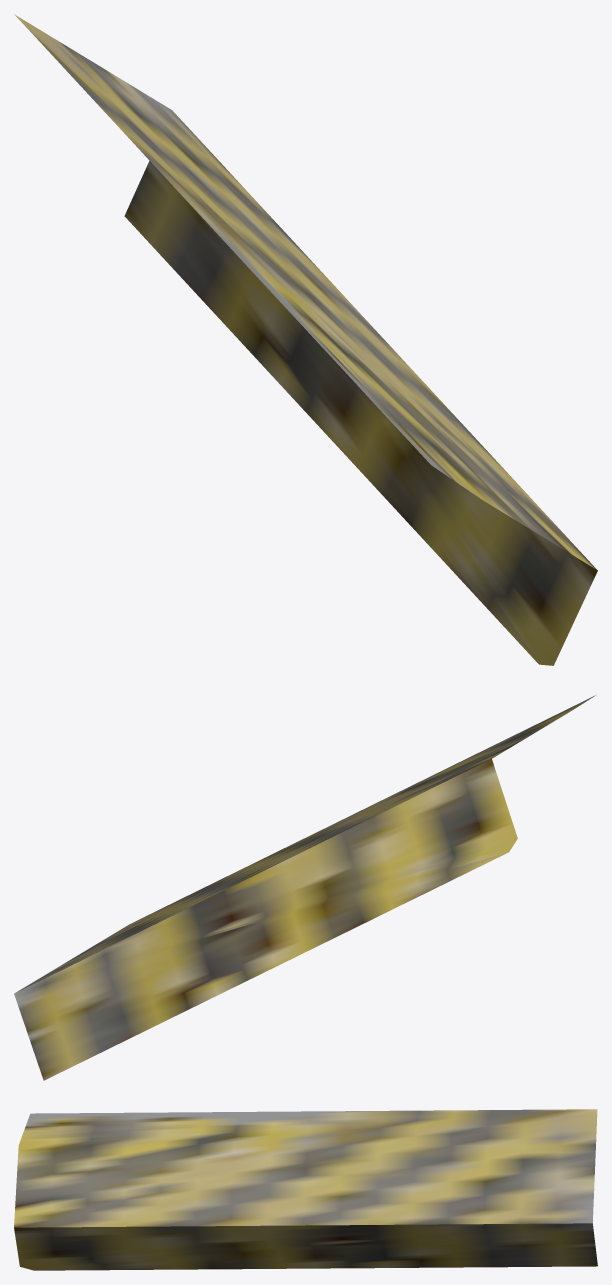
File: guard-right.glb
3 renders of one model, top to bottom at view 1: azimuth 30°, elevation 25°; view 2: azimuth 150°, elevation 25°; view 3: azimuth 270°, elevation 25°, orthographic. The views are drawn at different scales.
Visible parts, largest first — view 1: v-guard-right-panel-2, v-guard-right-panel-1; view 2: v-guard-right-panel-2, v-guard-right-panel-1; view 3: v-guard-right-panel-1, v-guard-right-panel-2.
Part boxes in pixels (x1,y1,x2,y2): v-guard-right-panel-2: [124, 161, 597, 665]; v-guard-right-panel-1: [14, 14, 597, 570]; v-guard-right-panel-2: [14, 759, 517, 1080]; v-guard-right-panel-1: [16, 695, 595, 992]; v-guard-right-panel-1: [14, 1109, 597, 1227]; v-guard-right-panel-2: [14, 1223, 597, 1270].
Bounding box in the file's own units: 0.7627 × 0.8303 × 2.8.
